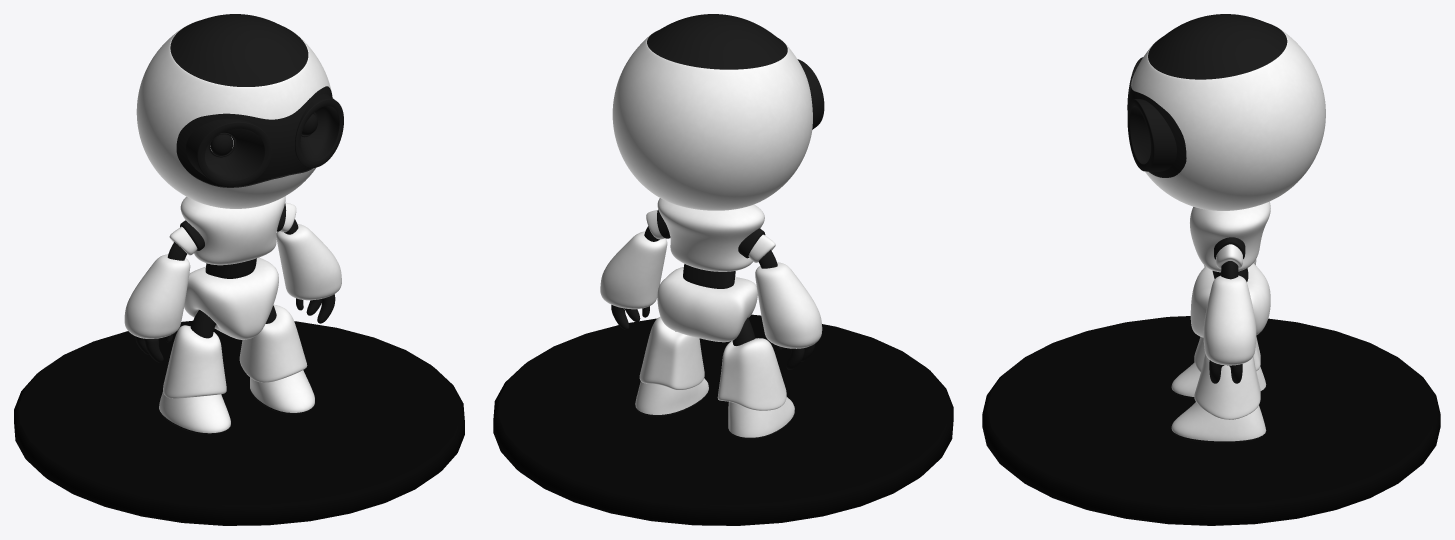
File: robot.glb
The picture shows the model from 3 angles, left to right: view 1: azimuth 30°, elevation 25°; view 2: azimuth 150°, elevation 25°; view 3: azimuth 270°, elevation 25°; orthographic projection. The views are drawn at different scales.
Parts seen in each view (by area): view 1: Cube.003_Cube.002_0, Cylinder_3; view 2: Cube.003_Cube.002_0, Cylinder_3; view 3: Cylinder_3, Cube.003_Cube.002_0.
Boxes of the visible parts, left/top/right/bottom form: Cube.003_Cube.002_0: left=124, top=14, right=343, bottom=434; Cylinder_3: left=14, top=320, right=464, bottom=525; Cube.003_Cube.002_0: left=600, top=14, right=824, bottom=439; Cylinder_3: left=493, top=314, right=953, bottom=525; Cylinder_3: left=982, top=316, right=1440, bottom=525; Cube.003_Cube.002_0: left=1127, top=14, right=1325, bottom=443.
Size of the model in its own units: 12.45 by 12.27 by 12.45.
4 materials, 2 textured.
